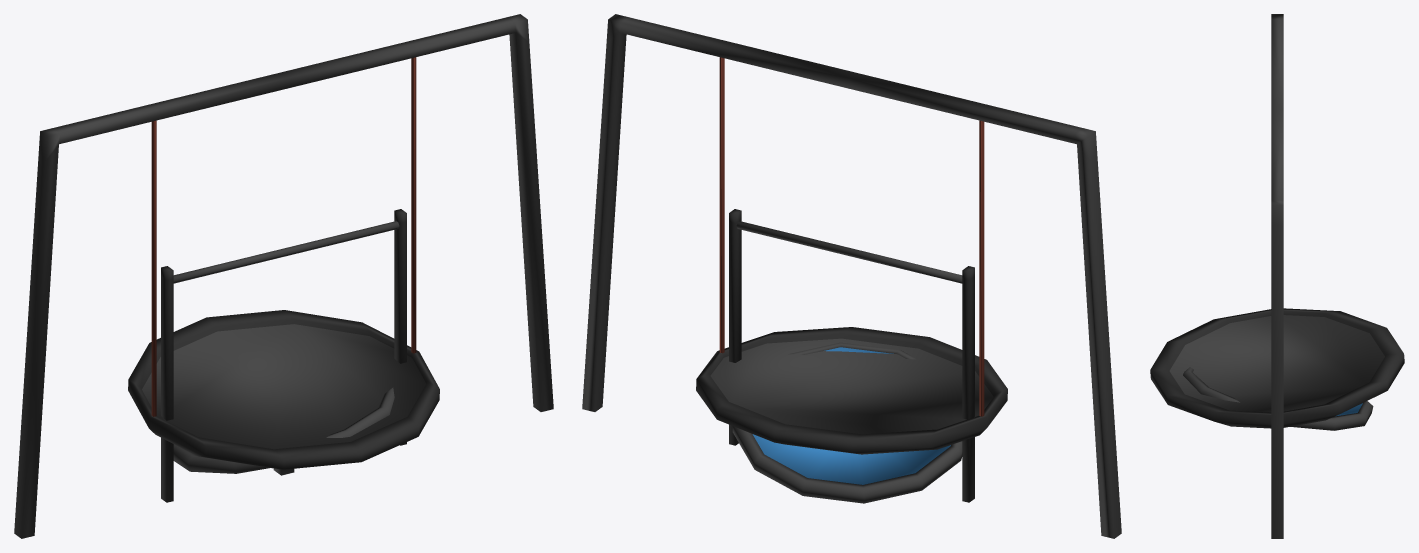
The model's file is park objects.fbx.
3 renders of one model, left to right at view 1: azimuth 30°, elevation 25°; view 2: azimuth 150°, elevation 25°; view 3: azimuth 270°, elevation 25°, orthographic. The views are drawn at different scales.
Parts seen in each view (by area): view 1: Swing, Cube.002, Cube; view 2: Swing, Cube, Cube.002; view 3: Swing, Cube.
Boxes of the visible parts, x1,y1,x2,y2 form: Swing: (14,14,553,538); Cube.002: (161,209,406,502); Cube: (173,387,394,473); Swing: (582,14,1121,538); Cube: (732,342,962,503); Cube.002: (729,209,974,502); Swing: (1150,14,1404,538); Cube: (1183,367,1373,430).
Size of the model in its own units: 2050 by 1458 by 1040.
